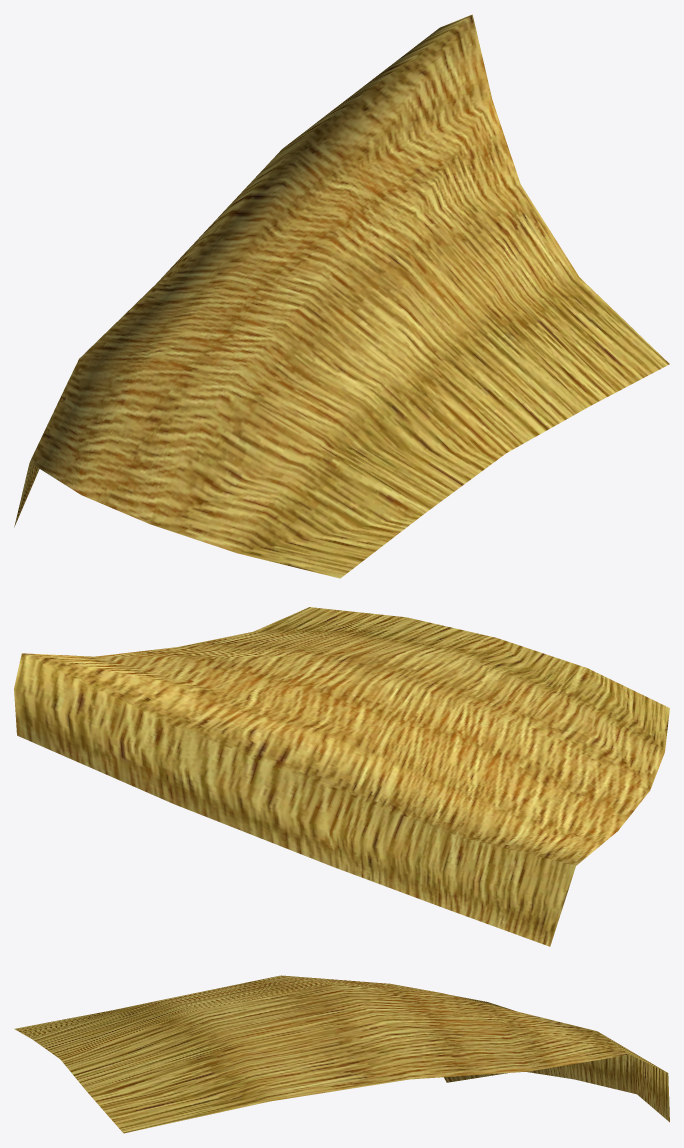
The model's file is HTOWN01_BAGROW1AWNING1.fbx.
3 renders of one model, top to bottom at view 1: azimuth 30°, elevation 25°; view 2: azimuth 150°, elevation 25°; view 3: azimuth 270°, elevation 25°, orthographic. The views are drawn at different scales.
Parts seen in each view (by area): view 1: HTOWN01_BAGROW1AWNING1; view 2: HTOWN01_BAGROW1AWNING1; view 3: HTOWN01_BAGROW1AWNING1.
Boxes of the visible parts, x1,y1,x2,y2 form: HTOWN01_BAGROW1AWNING1: (14, 14, 669, 578); HTOWN01_BAGROW1AWNING1: (14, 607, 669, 946); HTOWN01_BAGROW1AWNING1: (14, 975, 669, 1133).
Size of the model in its own units: 23298 by 11911 by 25628.
2 materials, 2 textured.
